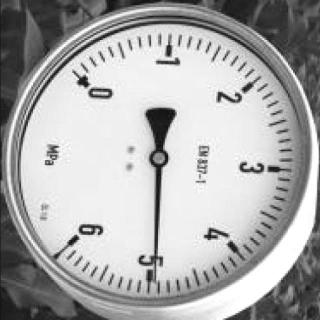gauge: (0, 0, 320, 320), (52, 210, 107, 253), (65, 64, 117, 108), (148, 149, 170, 169), (149, 273, 160, 285)
